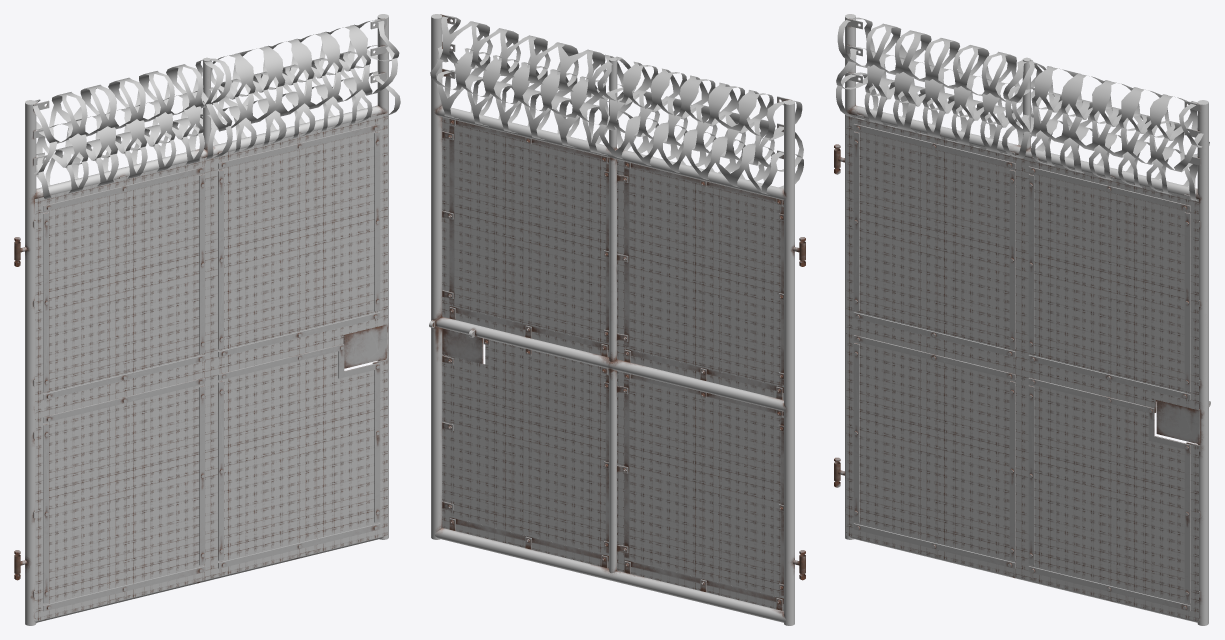
The model's file is SM_Access_Gate_01_Split.FBX.
The picture shows the model from 3 angles, left to right: view 1: azimuth 30°, elevation 25°; view 2: azimuth 150°, elevation 25°; view 3: azimuth 330°, elevation 25°; orthographic projection.
Parts seen in each view (by area): view 1: SM_Access_Gate_01_Split; view 2: SM_Access_Gate_01_Split; view 3: SM_Access_Gate_01_Split.
Part boxes in pixels (x1,y1,x2,y2): SM_Access_Gate_01_Split: [14, 14, 400, 625]; SM_Access_Gate_01_Split: [429, 14, 805, 625]; SM_Access_Gate_01_Split: [834, 14, 1210, 625].
Size of the model in its own units: 266 by 28.77 by 355.
